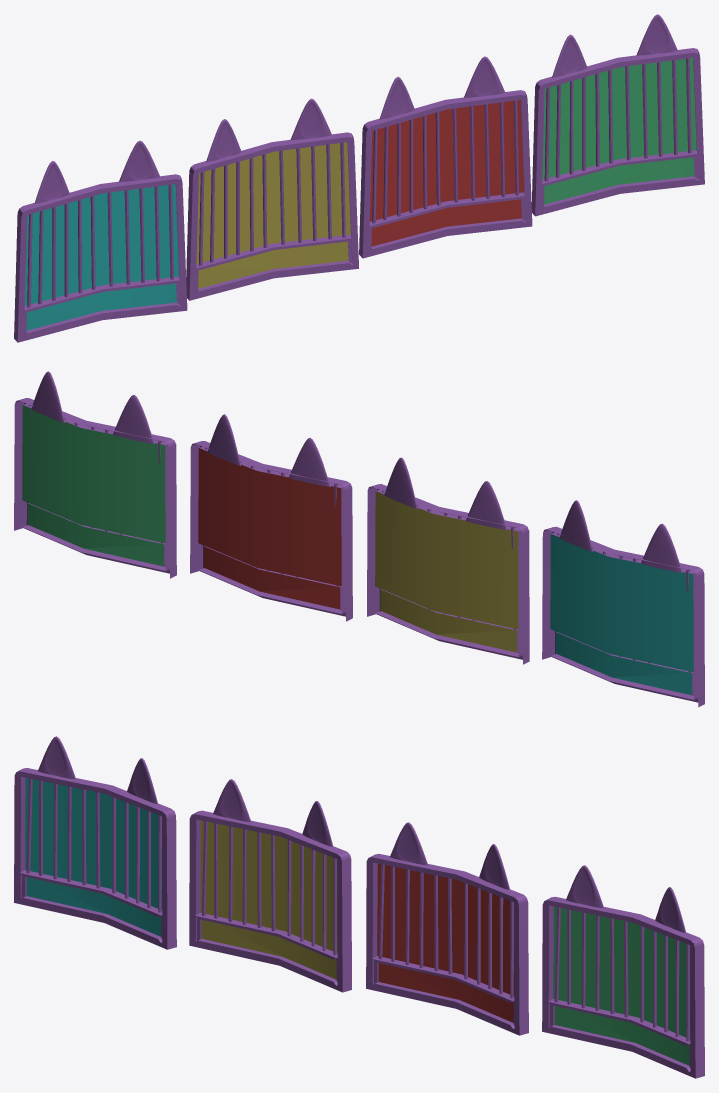
3 views of the same model, one above another, from view 1: azimuth 30°, elevation 25°; view 2: azimuth 150°, elevation 25°; view 3: azimuth 330°, elevation 25° (orthographic). The views are drawn at different scales.
Parts seen in each view (by area): view 1: pasted__polySurface6pasted__pasted__pasted__pasted__pasted__ (×3), Untitled:pasted__polySurface6pasted__pasted__pasted__pasted_; view 2: pasted__polySurface6pasted__pasted__pasted__pasted__pasted__ (×3), Untitled:pasted__polySurface6pasted__pasted__pasted__pasted_; view 3: pasted__polySurface6pasted__pasted__pasted__pasted__pasted__ (×3), Untitled:pasted__polySurface6pasted__pasted__pasted__pasted_.
Boxes of the visible parts, x1,y1,x2,y2 form: pasted__polySurface6pasted__pasted__pasted__pasted__pasted__ (×3): (186,14,704,300); Untitled:pasted__polySurface6pasted__pasted__pasted__pasted_: (14,140,187,342); pasted__polySurface6pasted__pasted__pasted__pasted__pasted__ (×3): (14,371,529,664); Untitled:pasted__polySurface6pasted__pasted__pasted__pasted_: (542,500,704,707); pasted__polySurface6pasted__pasted__pasted__pasted__pasted__ (×3): (189,779,704,1078); Untitled:pasted__polySurface6pasted__pasted__pasted__pasted_: (14,736,176,949).
Bounding box in the file's own units: 42.55 × 10.19 × 1.81.
